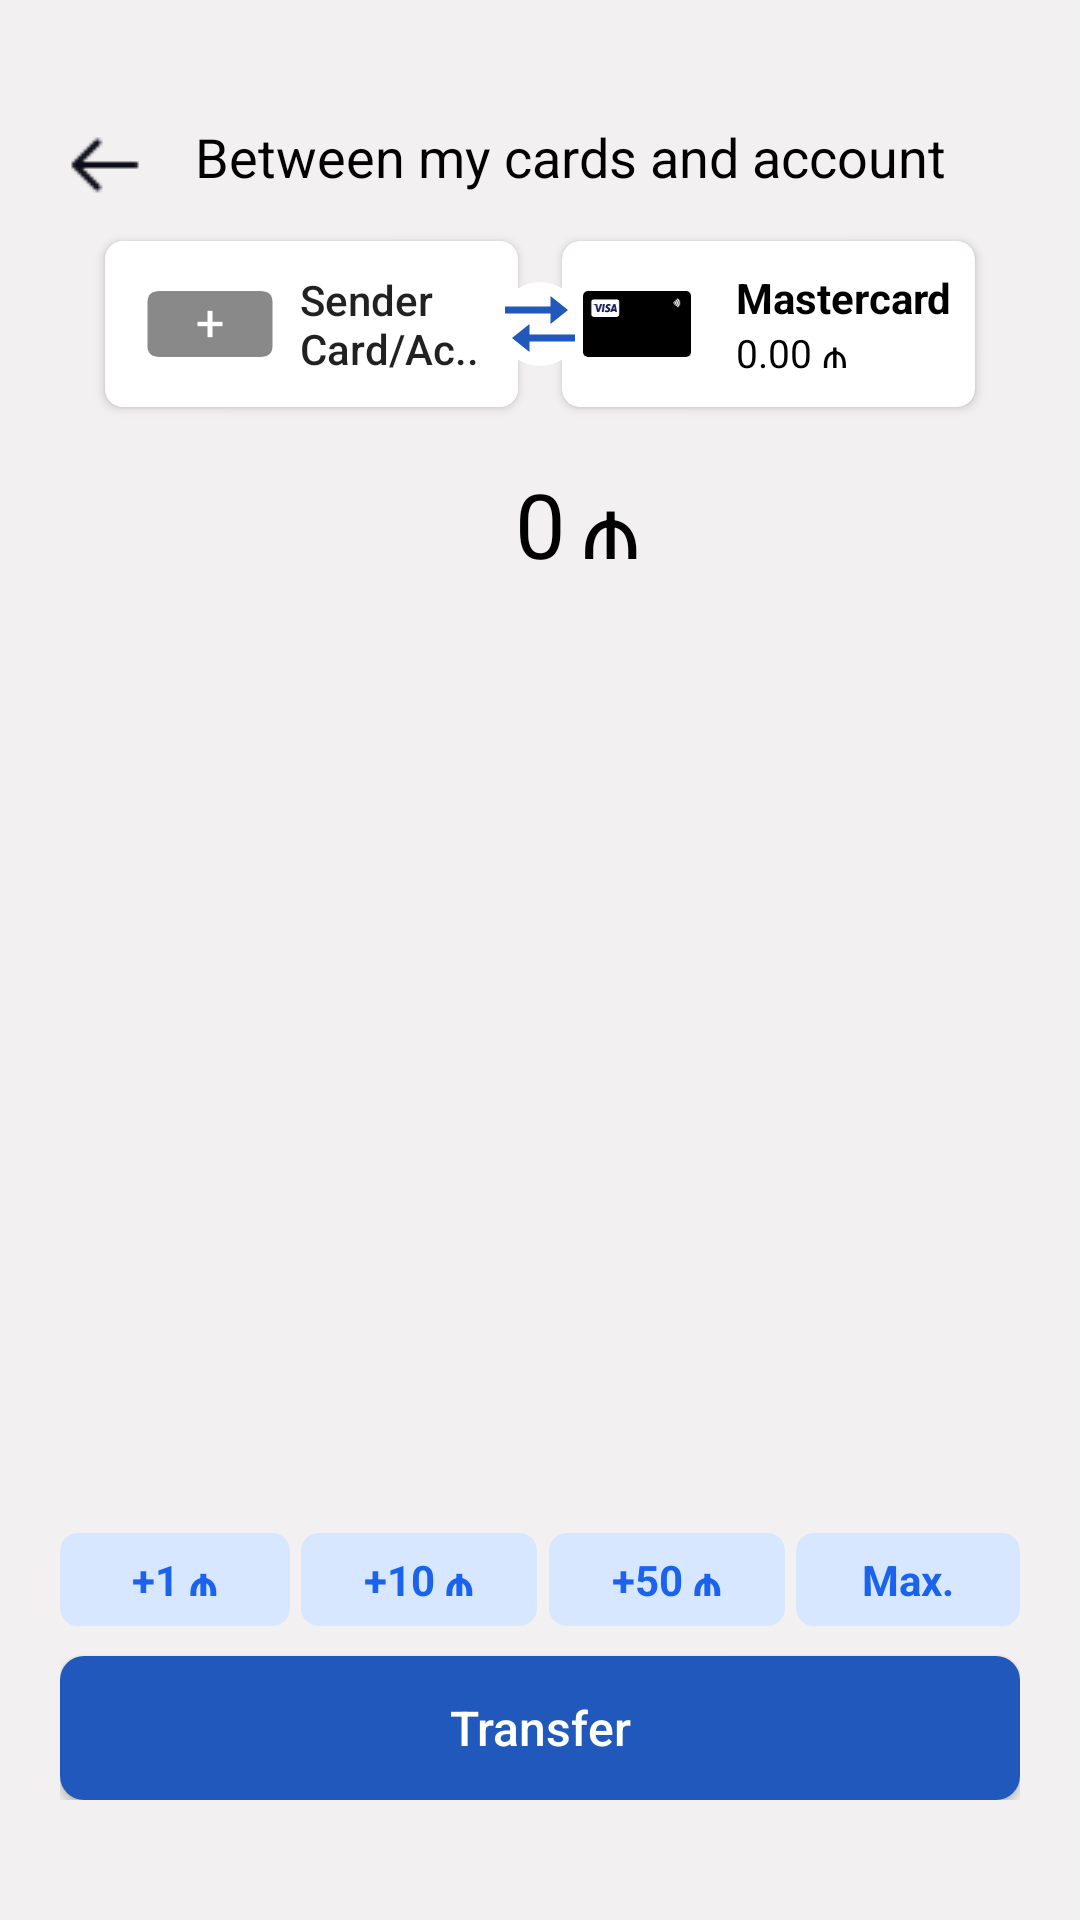

Icons on this 1080x1920 Android screen, each with the point to tap as (x=x, y=y):
left: (x=105, y=165)
transfer cards: (x=540, y=324)
